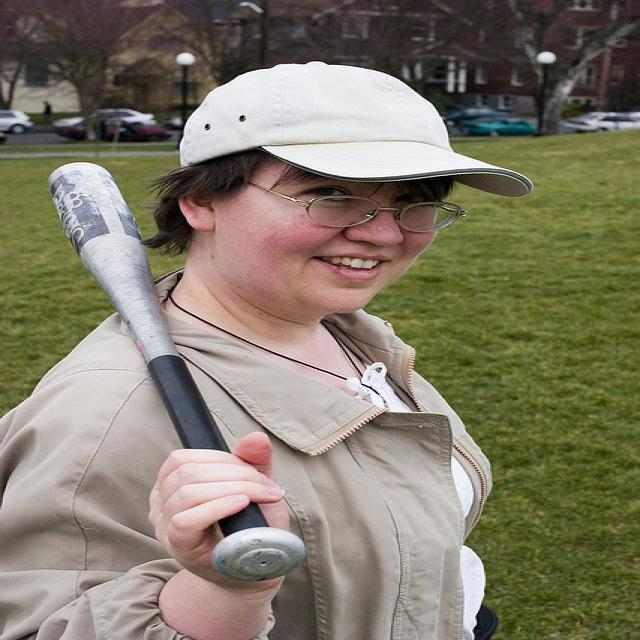Vehicle: (50, 109, 158, 136), (68, 118, 168, 140), (440, 105, 518, 128), (559, 112, 639, 134), (458, 116, 538, 137), (0, 110, 33, 134), (164, 116, 181, 129), (0, 131, 10, 144)
